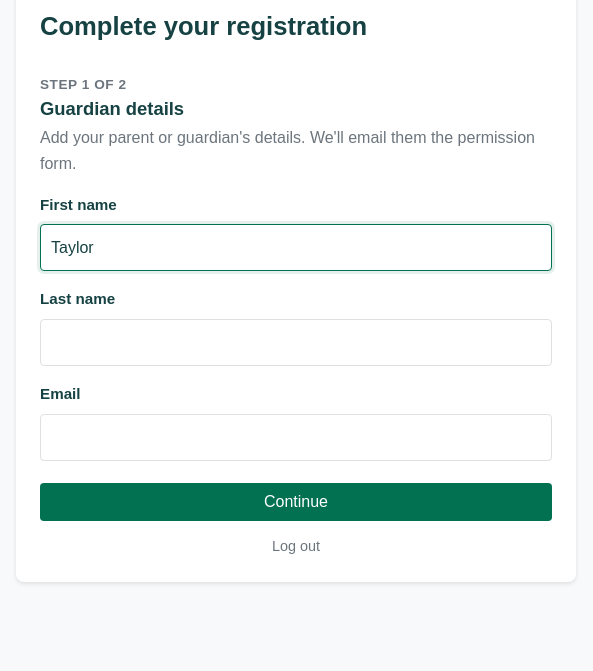
Test case: first sign-in › doesn't set the password when the guardian's details are refused
The image size is (593, 671).
Expected: the field with id "guardian-first-name" holds "Taylor", [40,224,552,272]
In the field with id "guardian-last-name": (296, 343) [40,319,552,366], type "Pupil"
In the field with id "guardian-email": (296, 438) [40,414,552,461], type "pupil@example.com"
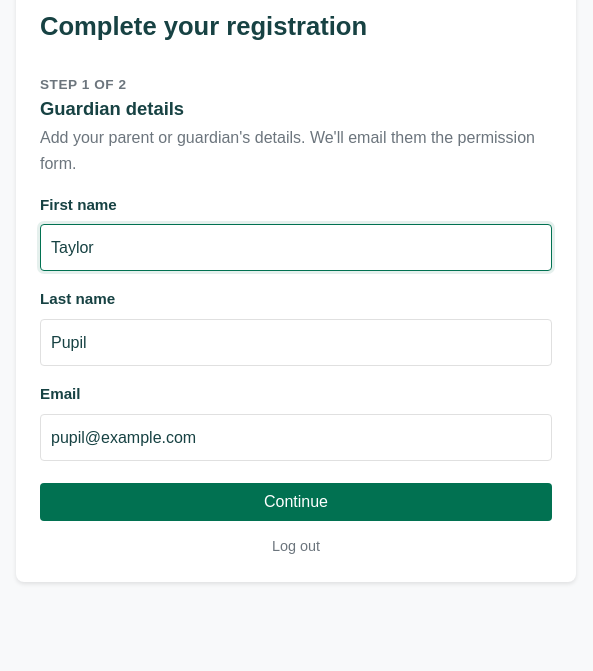
Submit the form, box [40,193,552,521]
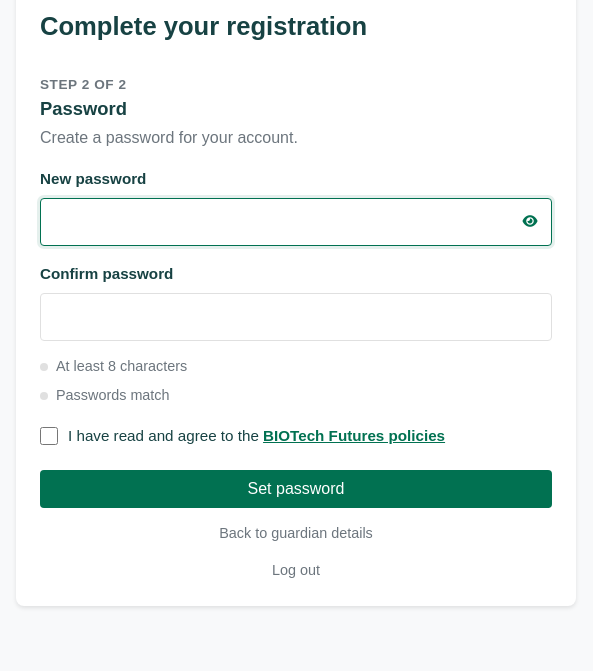
In the password field with id "new-password": (277, 222) [41,199,513,245], type "a-good-password"
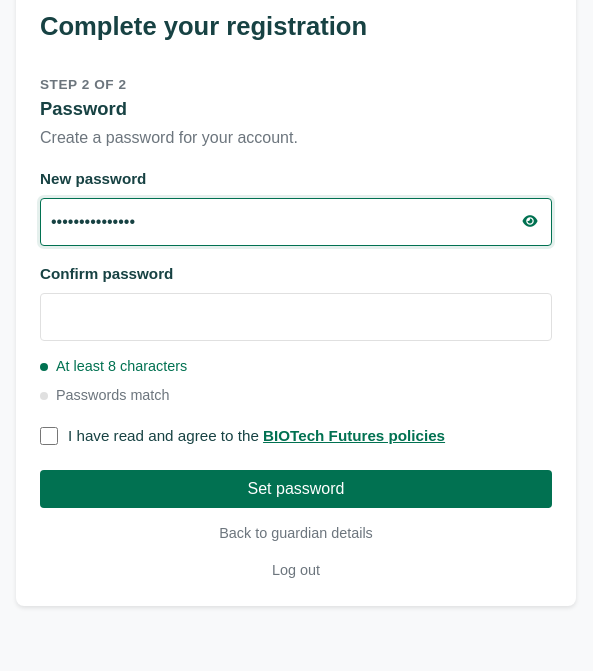
In the password field with id "confirm-password": (296, 317) [40,293,552,341], type "a-good-password"
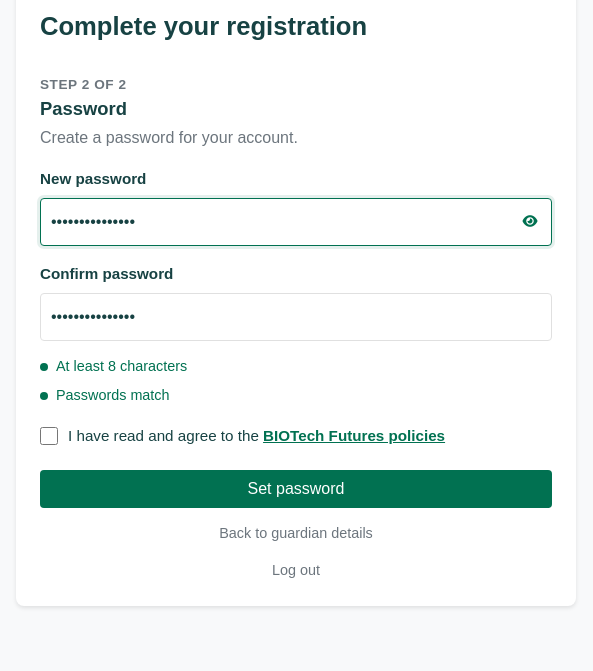
Click the 1st checkbox with test id "policies-agree": (49, 436) [40,427,58,445]
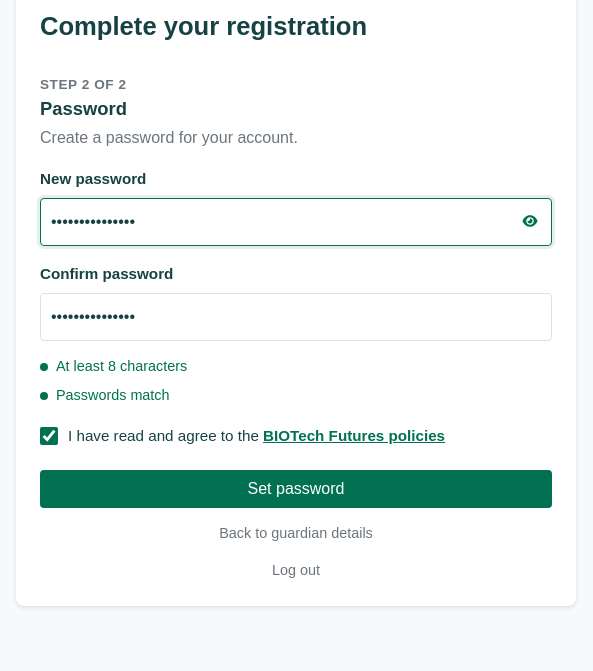
Submit the form, box [40,167,552,545]
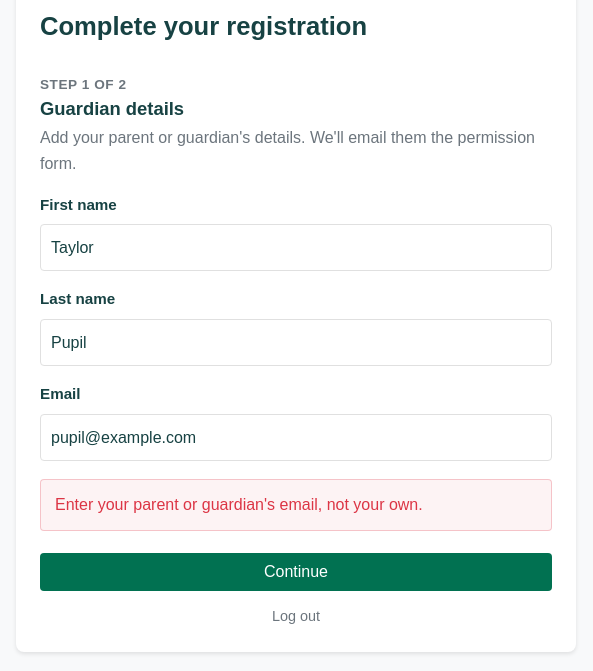
Expected: the heading "Guardian details" is shown, [40,98,184,120]
Expected: the message with class "error-message" reads "Enter your parent or guardian's email, not your own.", [55,496,423,513]
